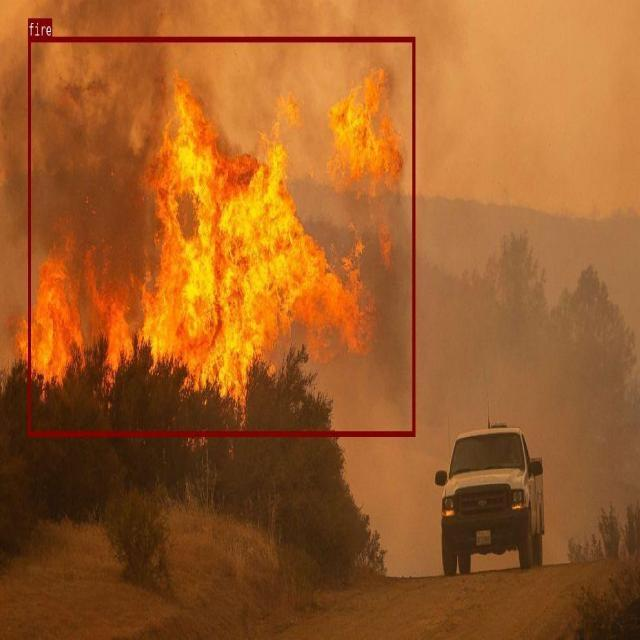fire: (28, 36, 415, 435)
